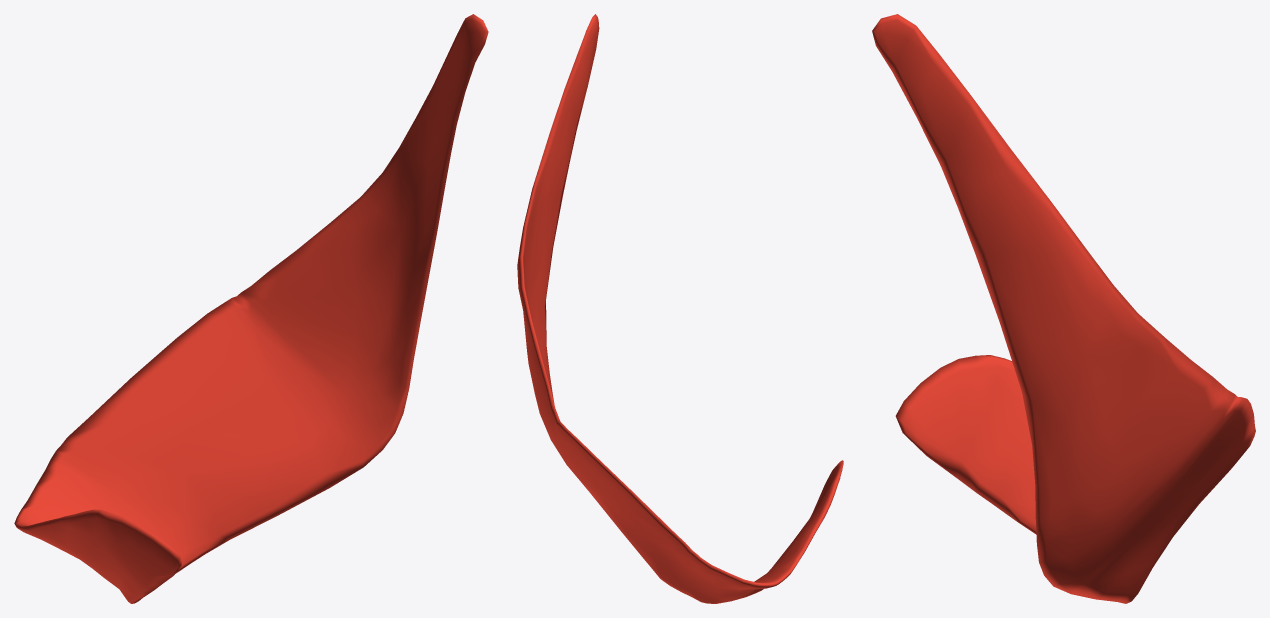
File: Gluteus_maximus_muscle-Iliac_insertion.l_Generated_Mesh_From_X3.glb
The picture shows the model from 3 angles, left to right: view 1: azimuth 30°, elevation 25°; view 2: azimuth 150°, elevation 25°; view 3: azimuth 270°, elevation 25°; orthographic projection. The views are drawn at different scales.
Visible parts, largest first — view 1: Gluteus_maximus_muscle-Iliac_insertion.l_Generated_Mesh_From; view 2: Gluteus_maximus_muscle-Iliac_insertion.l_Generated_Mesh_From; view 3: Gluteus_maximus_muscle-Iliac_insertion.l_Generated_Mesh_From.
Part boxes in pixels (box(x1,y1,x2,y2)): Gluteus_maximus_muscle-Iliac_insertion.l_Generated_Mesh_From: box(14, 14, 488, 603); Gluteus_maximus_muscle-Iliac_insertion.l_Generated_Mesh_From: box(517, 14, 843, 603); Gluteus_maximus_muscle-Iliac_insertion.l_Generated_Mesh_From: box(872, 14, 1255, 603).
Bounding box in the file's own units: 0.0268 × 0.0418 × 0.0202.
